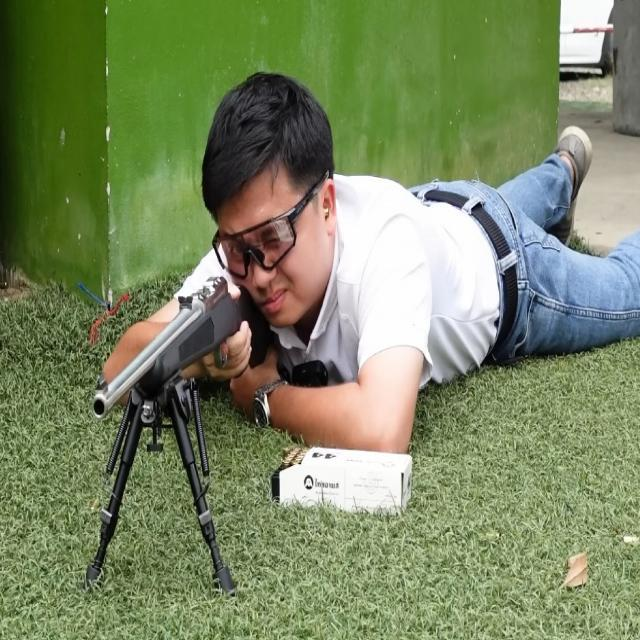rifle: (76, 262, 281, 607)
